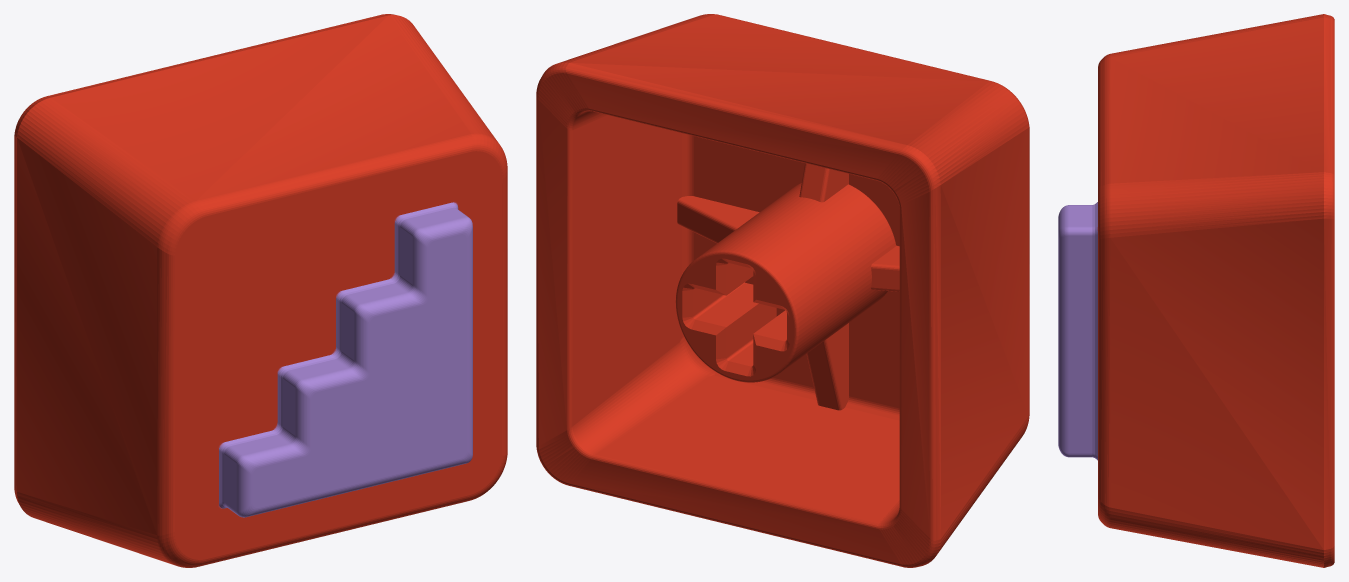
File: 04_STAIR_SILHOUETTE.obj
3 renders of one model, left to right at view 1: azimuth 30°, elevation 25°; view 2: azimuth 150°, elevation 25°; view 3: azimuth 270°, elevation 25°, orthographic. The views are drawn at different scales.
Visible parts, largest first — view 1: Color_copy_|_STAIRS_|_hollow_1u_shell; view 2: Color_copy_|_STAIRS_|_hollow_1u_shell; view 3: Color_copy_|_STAIRS_|_hollow_1u_shell.
Boxes of the visible parts, x1,y1,x2,y2 form: Color_copy_|_STAIRS_|_hollow_1u_shell: (14,14,507,567); Color_copy_|_STAIRS_|_hollow_1u_shell: (536,14,1029,567); Color_copy_|_STAIRS_|_hollow_1u_shell: (1058,14,1334,567).
Bounding box in the file's own units: 18 × 18 × 11.45.
1 material, 1 textured.
